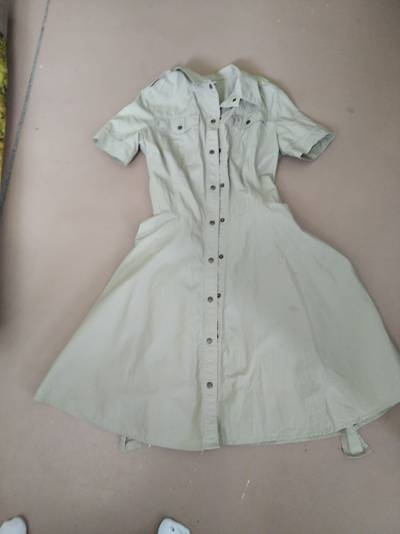Dress: (30, 48, 400, 479)
